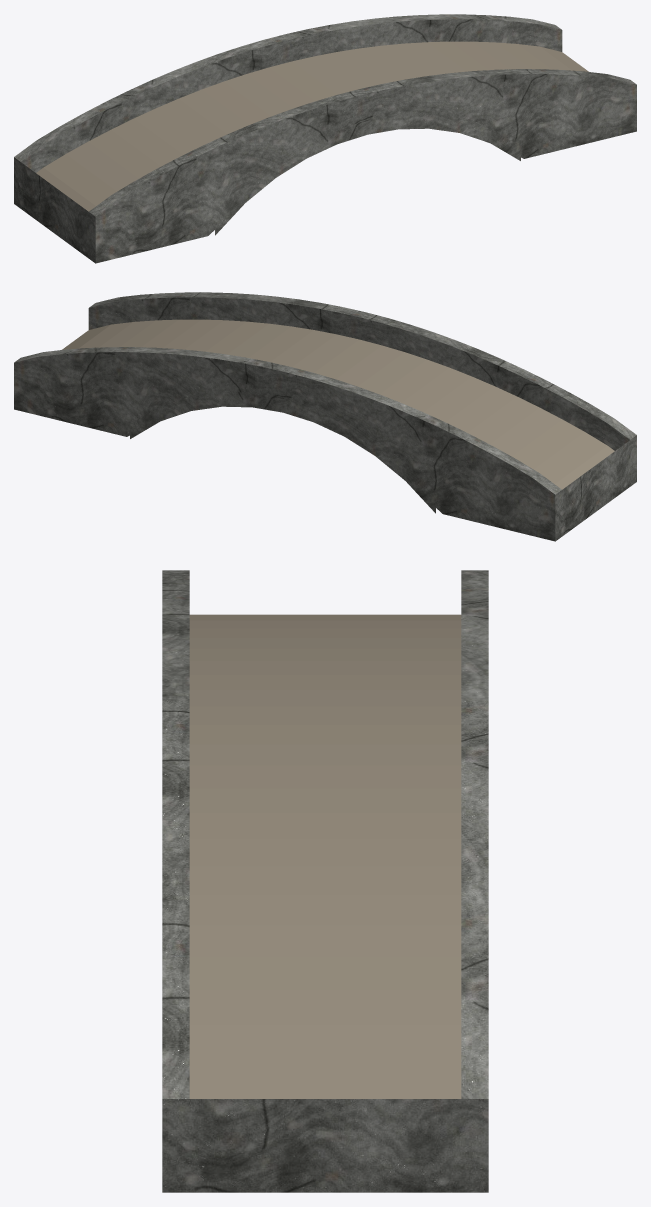
The model's file is gapstow_bridge.glb.
3 renders of one model, top to bottom at view 1: azimuth 30°, elevation 25°; view 2: azimuth 150°, elevation 25°; view 3: azimuth 270°, elevation 25°, orthographic. The views are drawn at different scales.
Visible parts, largest first — view 1: gapstow_bridge; view 2: gapstow_bridge; view 3: gapstow_bridge.
Boxes of the visible parts, left/top/right/bottom form: gapstow_bridge: left=14, top=14, right=636, bottom=263; gapstow_bridge: left=14, top=292, right=636, bottom=541; gapstow_bridge: left=162, top=570, right=488, bottom=1192.
Bounding box in the file's own units: 23 × 4.2 × 6.24.
2 materials, 2 textured.
